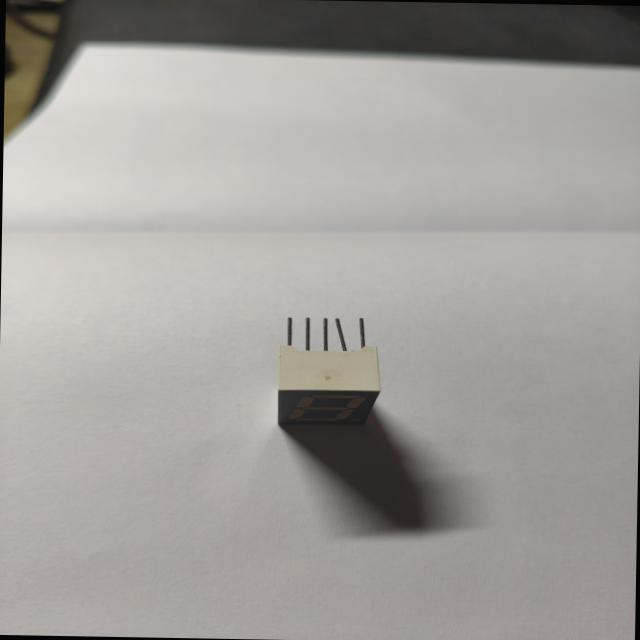sevensegment: (260, 296, 396, 433)
